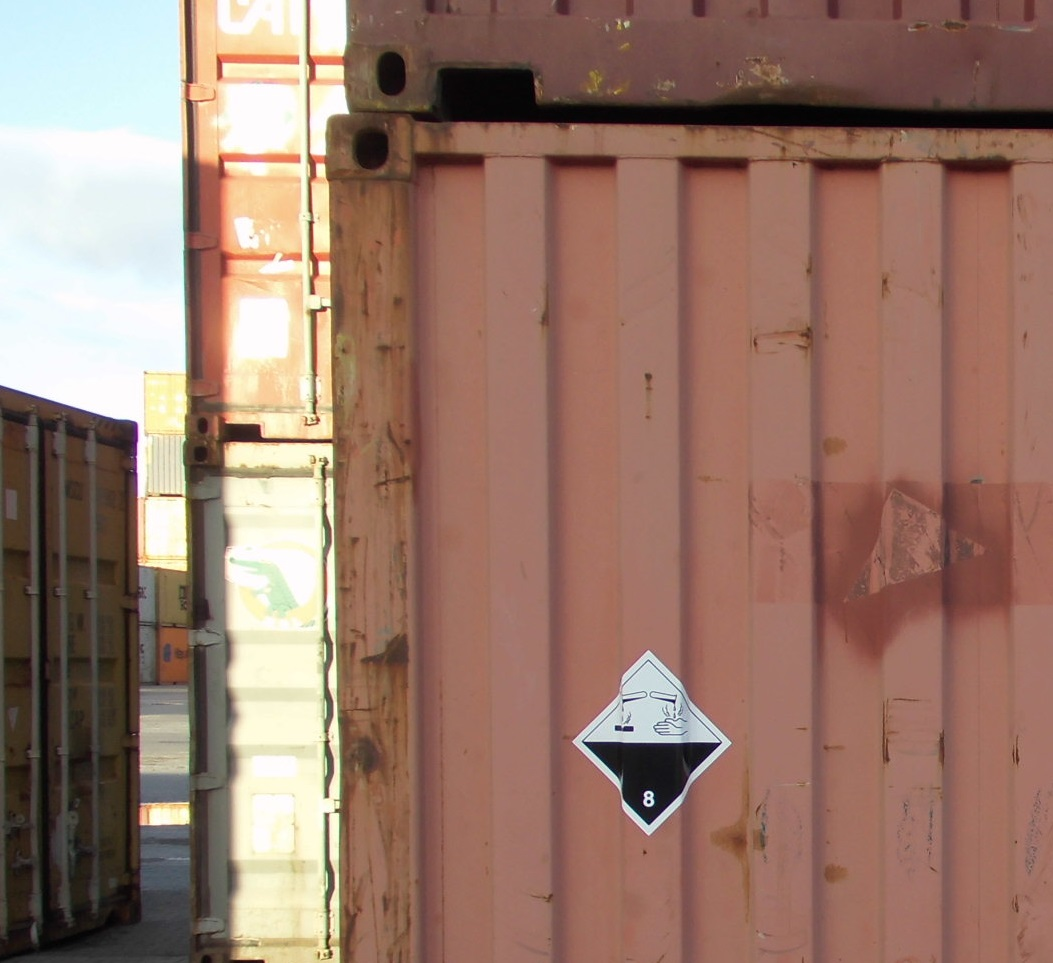container_door: (186, 3, 344, 434)
container_no_door: (330, 112, 1047, 960)
